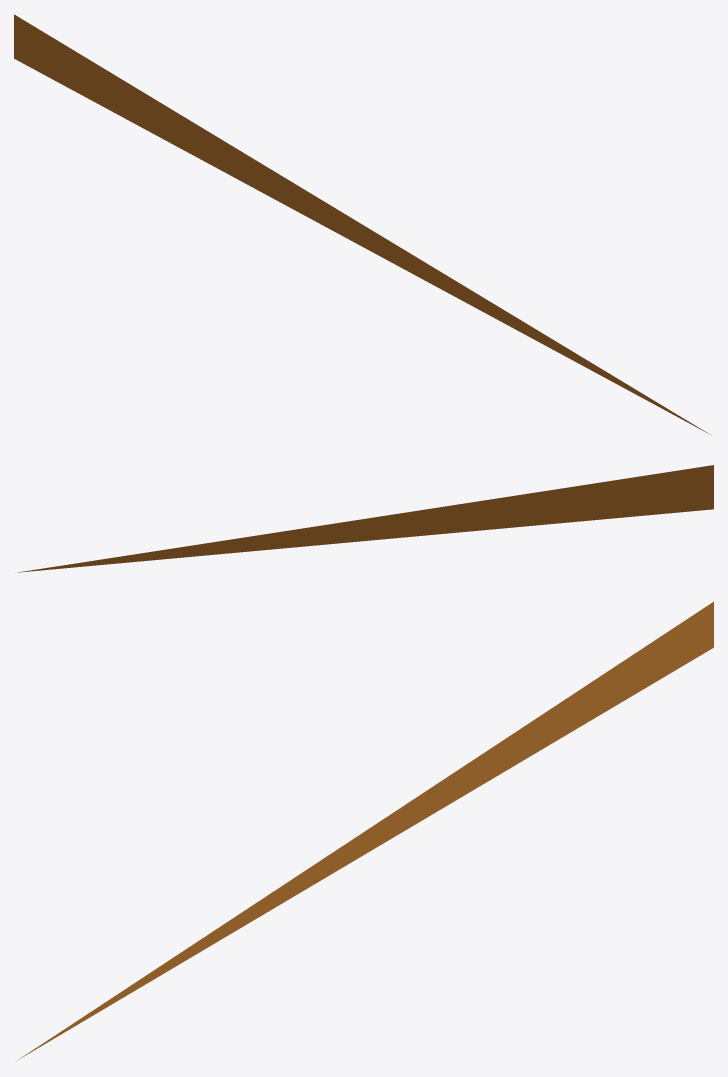
The picture shows the model from 3 angles, top to bottom: view 1: azimuth 30°, elevation 25°; view 2: azimuth 210°, elevation 25°; view 3: azimuth 270°, elevation 25°; orthographic projection. The views are drawn at different scales.
Visible parts, largest first — view 1: A-ROOF-PENDING-JOIN-5-LOW-RIGHT-1-0; view 2: A-ROOF-PENDING-JOIN-5-LOW-RIGHT-1-0; view 3: A-ROOF-PENDING-JOIN-5-LOW-RIGHT-1-0.
Part boxes in pixels (bbox=[...]): A-ROOF-PENDING-JOIN-5-LOW-RIGHT-1-0: bbox=[14, 14, 711, 435]; A-ROOF-PENDING-JOIN-5-LOW-RIGHT-1-0: bbox=[15, 465, 713, 572]; A-ROOF-PENDING-JOIN-5-LOW-RIGHT-1-0: bbox=[17, 601, 713, 1060].
Size of the model in its own units: 1.1 by 0.7667 by 1.76.
